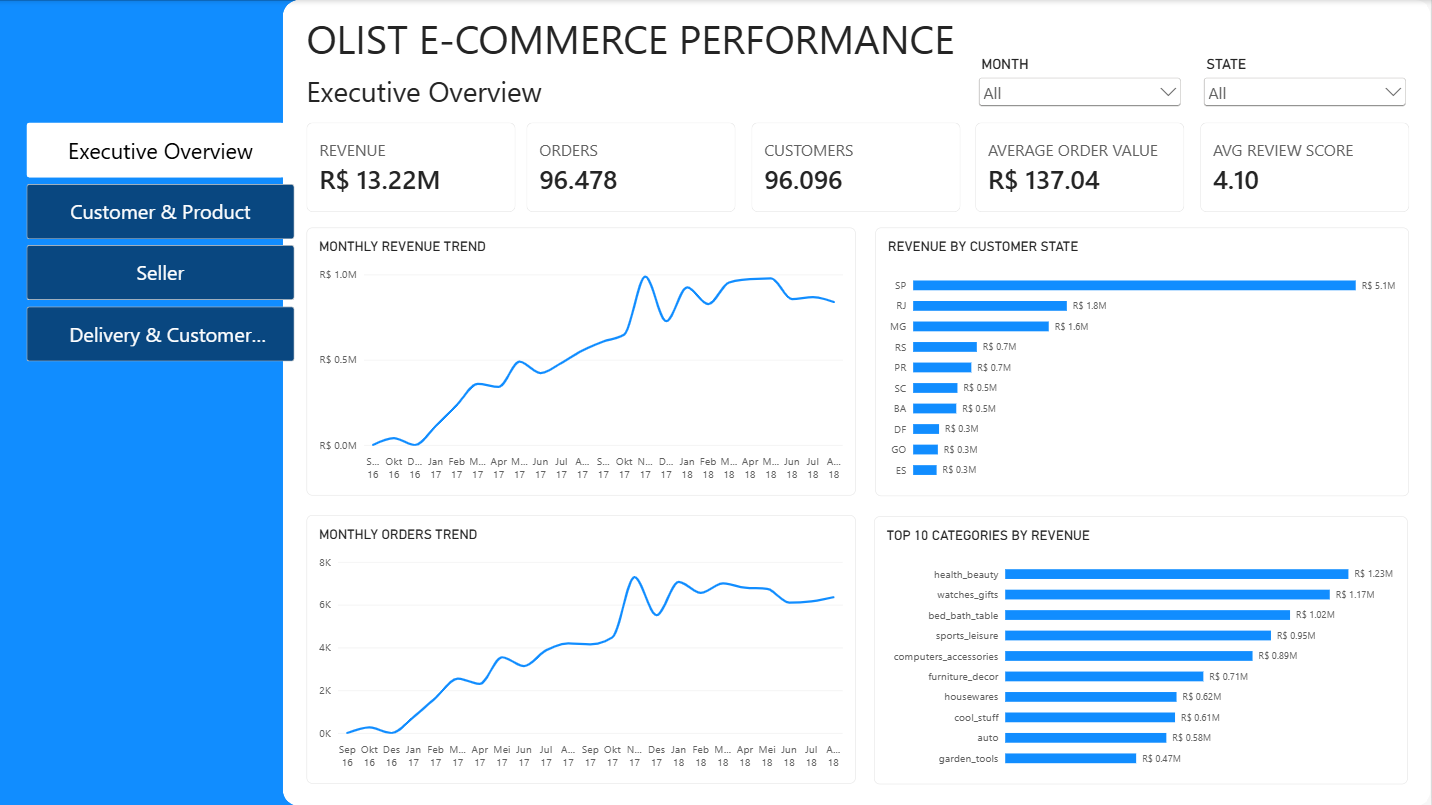

The dashboard page shown, as its layout file describes it:
{"tool":"powerbi","page":{"name":"Executive Overview","canvas":[1920,1080],"ordinal":0},"visuals":[{"type":"shape","box":[0,0,397.3,1080.6],"z":0},{"type":"shape","box":[380.9,0,1539.6,1080.1],"z":500},{"type":"textbox","box":[411.7,14.4,913.9,82.3],"z":1000},{"type":"textbox","box":[411.7,96.7,900,70],"z":2000},{"type":"cardVisual","fields":{"Data":["Key_Measure.Total Revenue"]},"box":[411.6,164,280,120],"z":3000},{"type":"cardVisual","fields":{"Data":["Key_Measure.Format Total Orders"]},"box":[706.4,164,280,120],"z":4000},{"type":"cardVisual","fields":{"Data":["Key_Measure.Total Customers"]},"box":[1008.1,164,280,120],"z":5000},{"type":"cardVisual","fields":{"Data":["Key_Measure.Average Order Value"]},"box":[1308.1,164,280,120],"z":6000},{"type":"cardVisual","fields":{"Data":["Key_Measure.Avg Review Score"]},"box":[1609.9,164,280,120],"z":7000},{"type":"lineChart","title":"MONTHLY REVENUE TREND","fields":{"Category":["dim_date.Month Year"],"Y":["Key_Measure.Total Revenue"]},"box":[411.6,305.2,736,359.3],"z":8000},{"type":"lineChart","title":"MONTHLY ORDERS TREND","fields":{"Category":["dim_date.Month Year"],"Y":["Key_Measure.Total Orders"]},"box":[411.6,690.7,736,360],"z":9000},{"type":"barChart","title":"TOP 10 CATEGORIES BY REVENUE","fields":{"Category":["vw_dim_products.product_category_name"],"Y":["Key_Measure.Total Revenue"]},"box":[1172.9,691.9,715.1,359.3],"z":10000},{"type":"barChart","title":"REVENUE BY CUSTOMER STATE","fields":{"Category":["vw_dim_customers.customer_state"],"Y":["Key_Measure.Total Revenue"]},"box":[1174.8,305.3,715,360],"z":11000},{"type":"slicer","fields":{"Values":["dim_date.Month Year"]},"box":[1308,75.9,280,88.8],"z":12000},{"type":"slicer","fields":{"Values":["vw_dim_customers.customer_state"]},"box":[1609.6,75.9,280,88.8],"z":13000},{"type":"pageNavigator","box":[36.7,164.3,360,321.5],"z":14000}]}

Visuals, with their boxes in screenshot pixels (x1, y1, x2, y2), scaled from the page's 1920x1080 canvas onto the 1432x805 screenshot:
shape: x1=0 y1=0 x2=296 y2=804
shape: x1=284 y1=0 x2=1431 y2=804
textbox: x1=307 y1=11 x2=989 y2=72
textbox: x1=307 y1=72 x2=978 y2=124
cardVisual - Key_Measure.Total Revenue: x1=307 y1=122 x2=516 y2=212
cardVisual - Key_Measure.Format Total Orders: x1=527 y1=122 x2=736 y2=212
cardVisual - Key_Measure.Total Customers: x1=752 y1=122 x2=961 y2=212
cardVisual - Key_Measure.Average Order Value: x1=976 y1=122 x2=1184 y2=212
cardVisual - Key_Measure.Avg Review Score: x1=1201 y1=122 x2=1410 y2=212
"MONTHLY REVENUE TREND" lineChart: x1=307 y1=227 x2=856 y2=495
"MONTHLY ORDERS TREND" lineChart: x1=307 y1=515 x2=856 y2=783
"TOP 10 CATEGORIES BY REVENUE" barChart: x1=875 y1=516 x2=1408 y2=784
"REVENUE BY CUSTOMER STATE" barChart: x1=876 y1=228 x2=1409 y2=496
slicer - dim_date.Month Year: x1=976 y1=57 x2=1184 y2=123
slicer - vw_dim_customers.customer_state: x1=1200 y1=57 x2=1409 y2=123
pageNavigator: x1=27 y1=122 x2=296 y2=362
